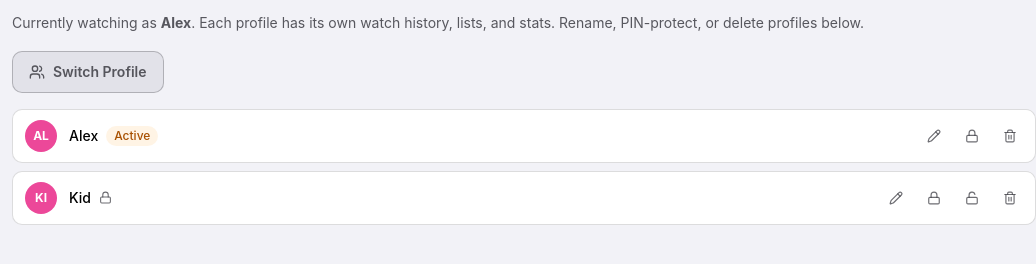
Test: ProfileSettings deletion › reports a refusal that isn't about the PIN
The width and height of the screenshot is (1036, 264).
Click the button named "Delete Kid": point(1010, 198) [997,185,1023,211]
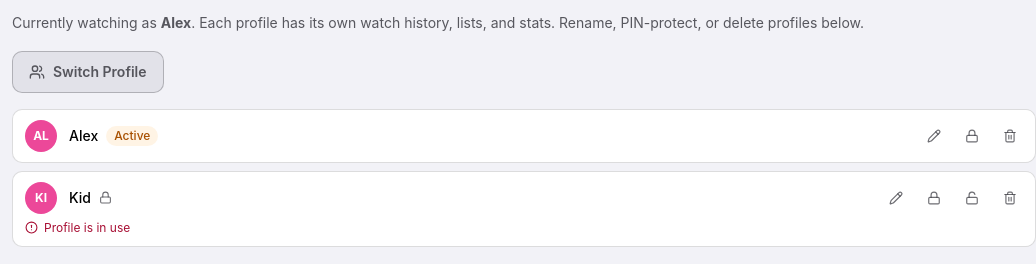
Expected: the text "Kid" is shown, [69,188,91,208]
Expected: the text "Profile is in use" is shown, [25,220,130,235]
